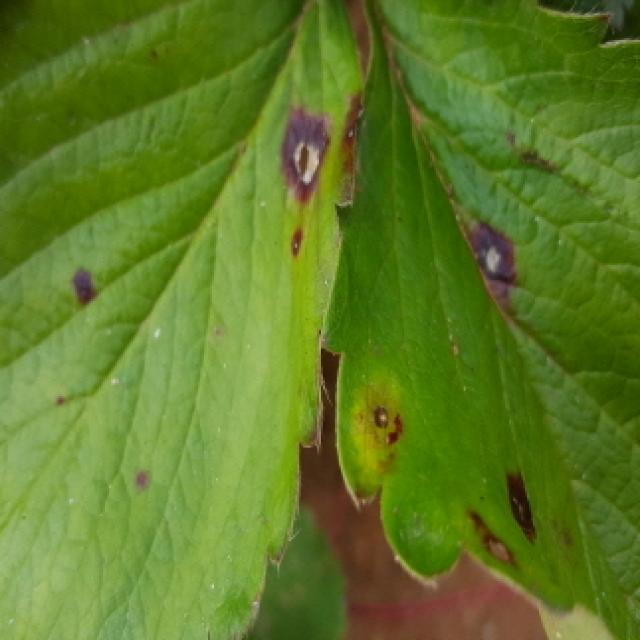Leaf Spot: (321, 0, 640, 640)
